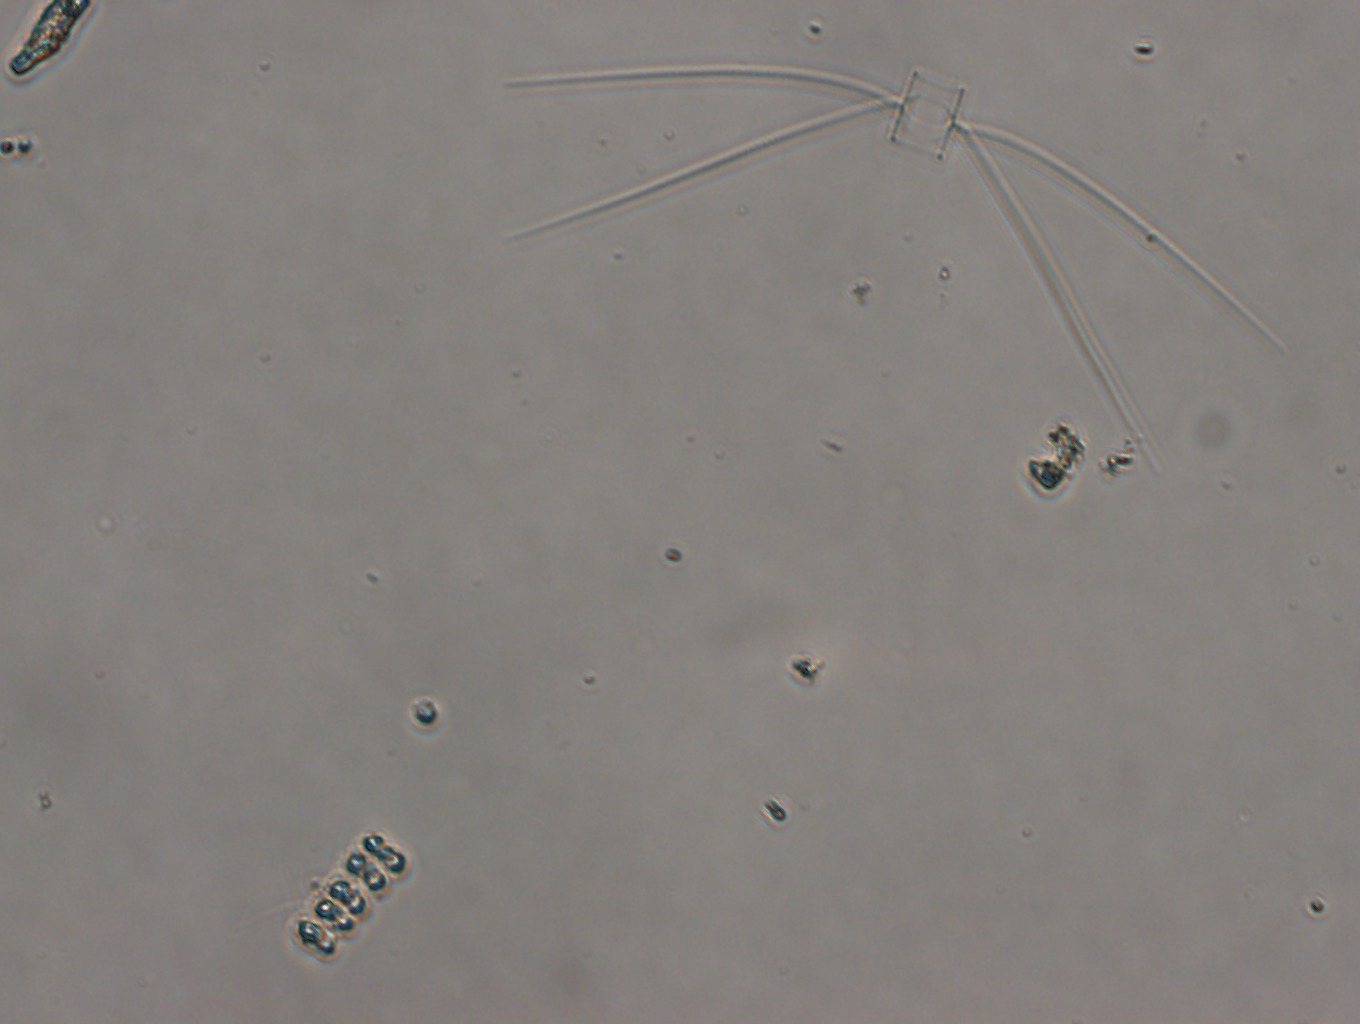chaetoceros: (502, 65, 1288, 478), (280, 820, 409, 970)
